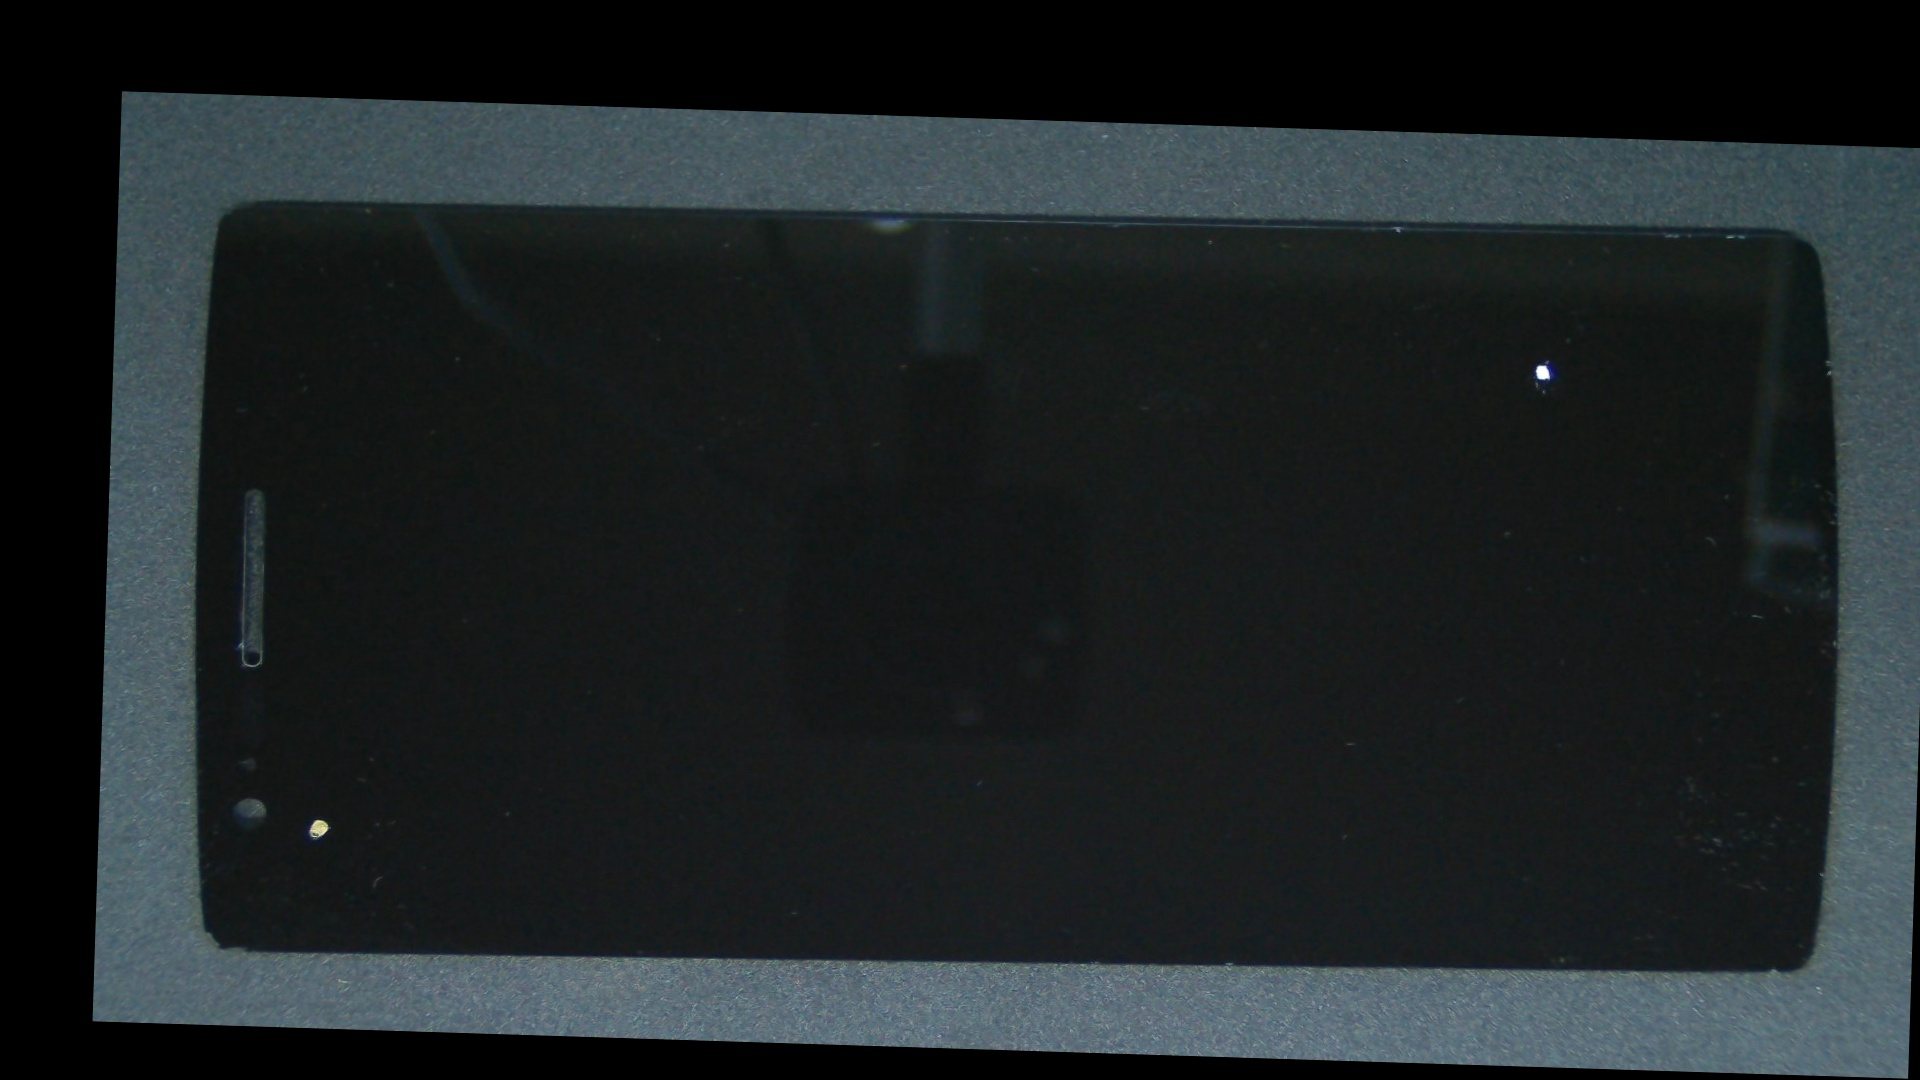oil: (823, 227, 1920, 491), (203, 455, 440, 1031)
